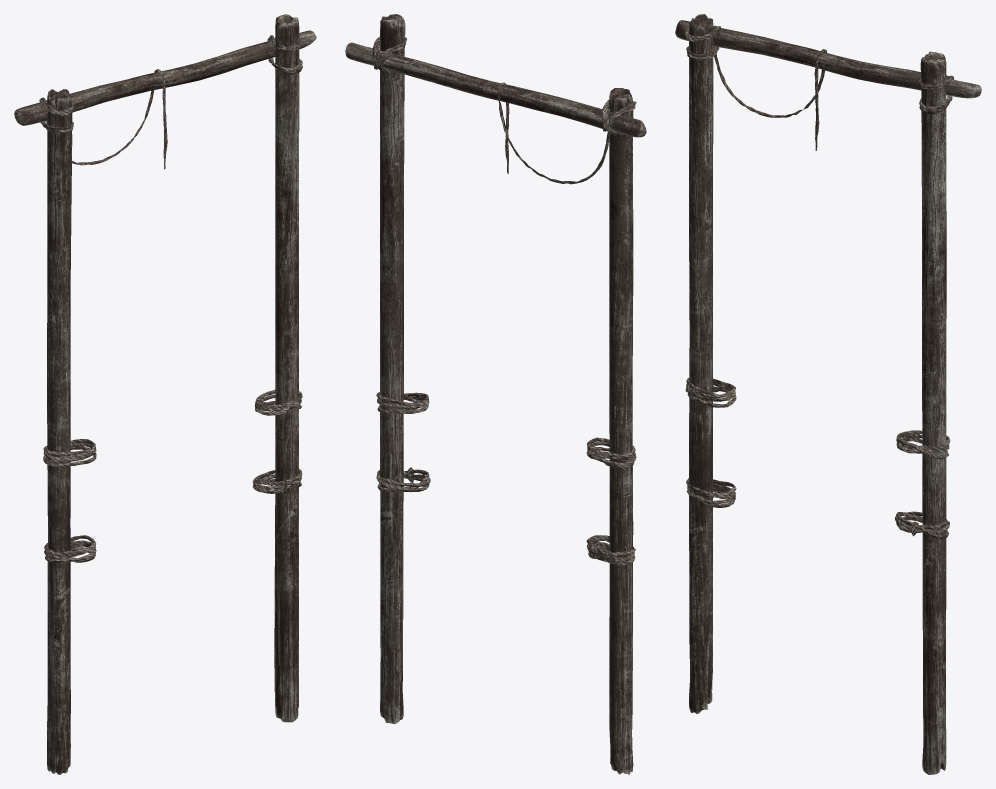
Rendered from wooden_pier_section_05.glb.
3 views of the same model, side by side, from view 1: azimuth 30°, elevation 25°; view 2: azimuth 150°, elevation 25°; view 3: azimuth 330°, elevation 25° (orthographic). The views are drawn at different scales.
Visible parts, largest first — view 1: body; view 2: body; view 3: body.
Boxes of the visible parts, left/top/right/bottom form: body: left=14, top=14, right=316, bottom=774; body: left=345, top=14, right=646, bottom=774; body: left=675, top=14, right=981, bottom=774.
Size of the model in its own units: 3.1 by 7 by 0.465.
1 material, 1 textured.
